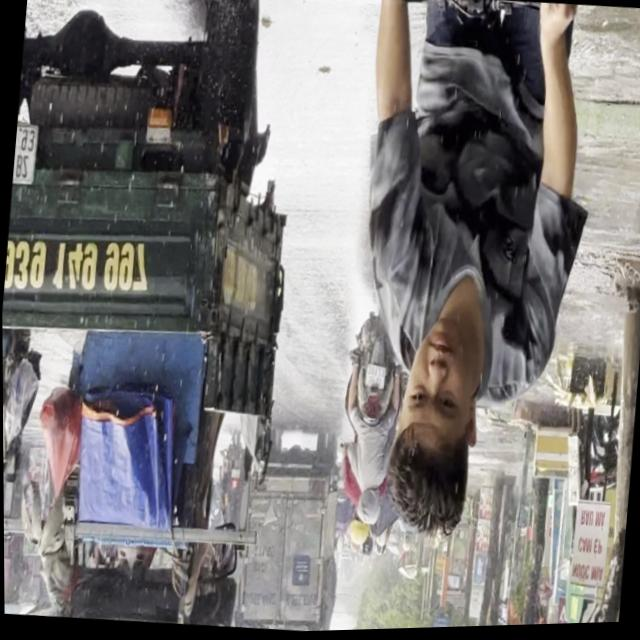helmet: (356, 488, 381, 528), (346, 513, 369, 551)
licenseplate: (328, 313, 411, 554)
nohelmet: (363, 368, 384, 392)
